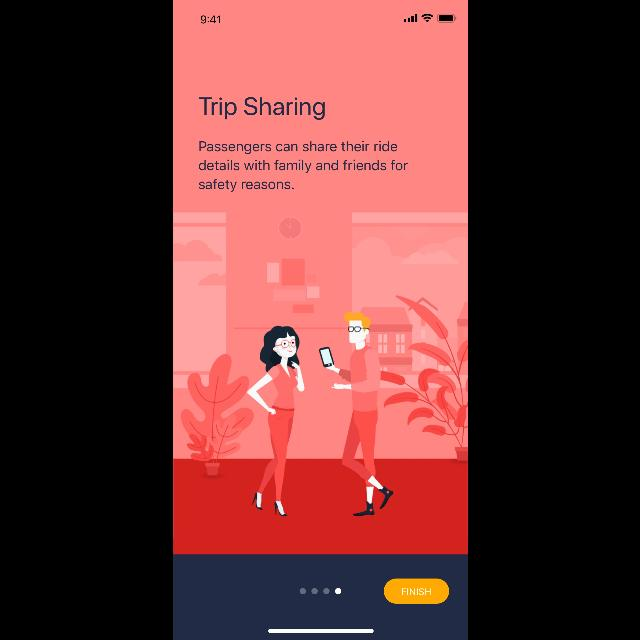image: (172, 212, 468, 554)
pageindicator: (299, 588, 341, 594)
text: (198, 141, 408, 193), (198, 97, 324, 121)
textbutton: (384, 578, 448, 604)
uppertaskbar: (199, 14, 457, 24)
